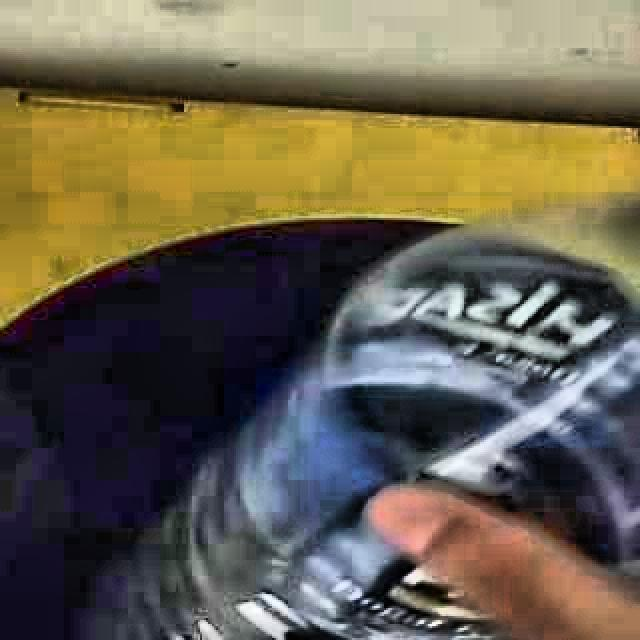plastic: (93, 197, 640, 640)
